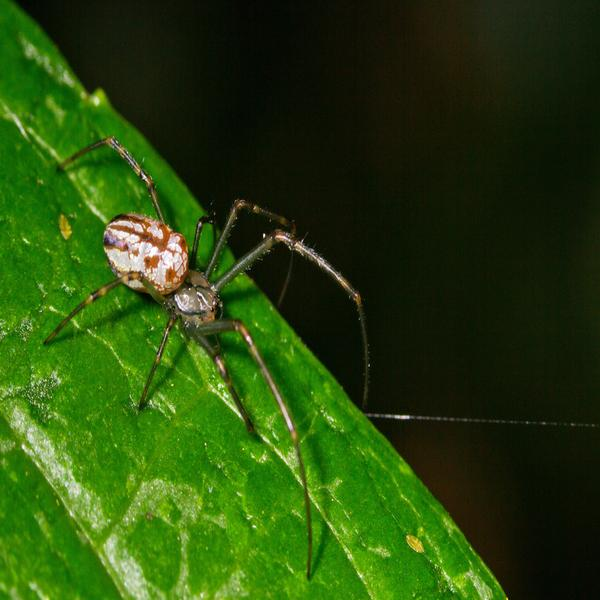Garden Orb Weaver Spider: (62, 135, 372, 550)
